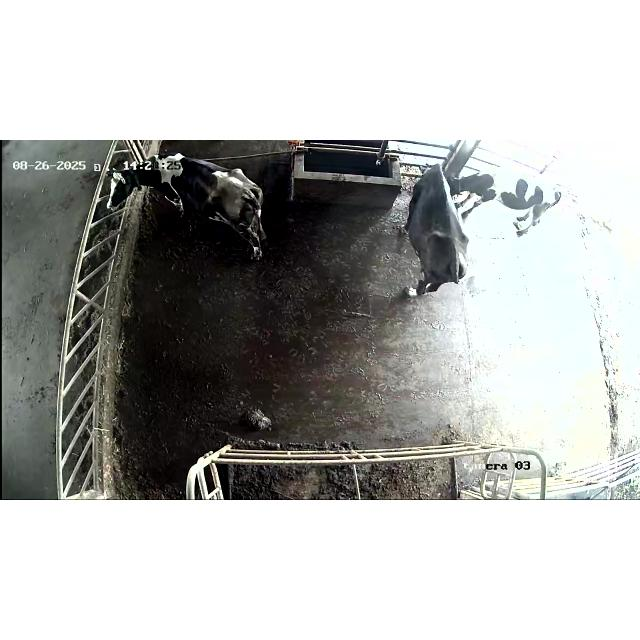stand: (108, 156, 280, 268), (448, 158, 572, 246), (401, 158, 469, 312)
